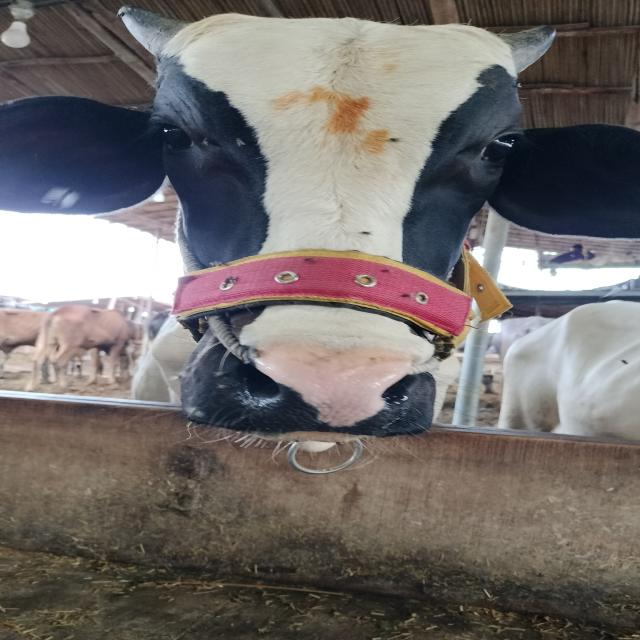muzzles: (204, 333, 444, 441)
